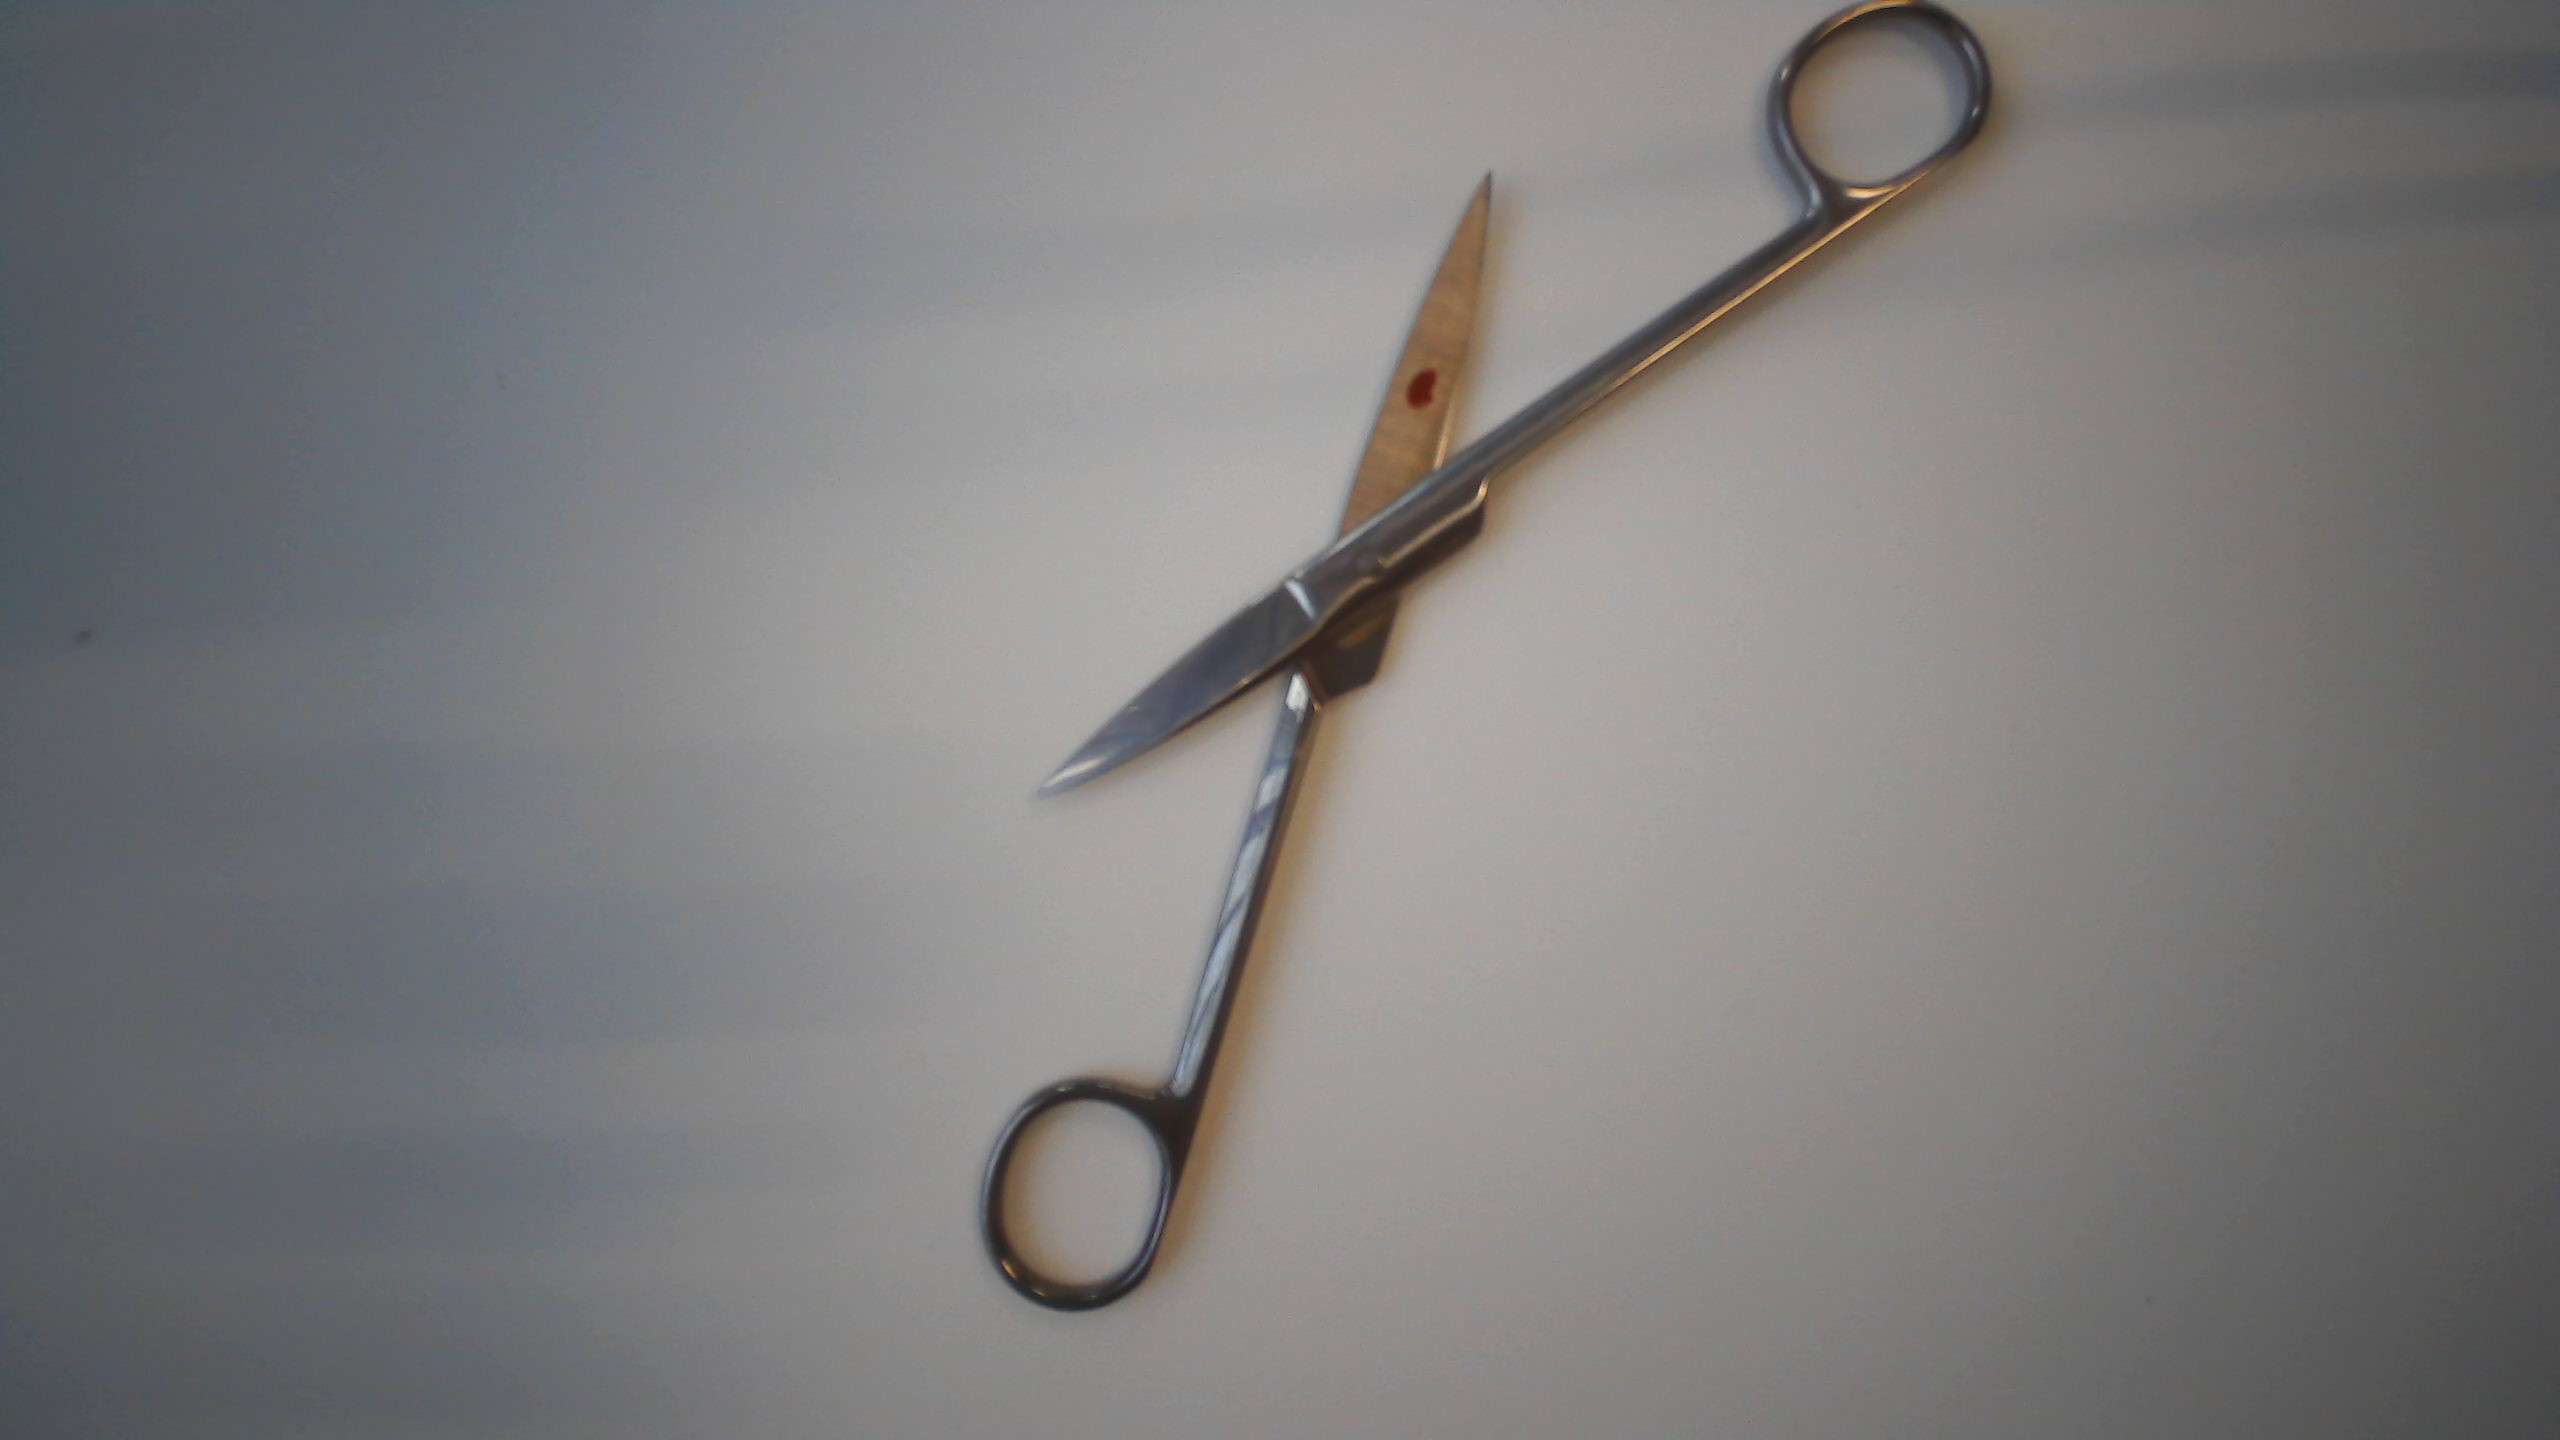Stain: (1398, 362, 1445, 420)
